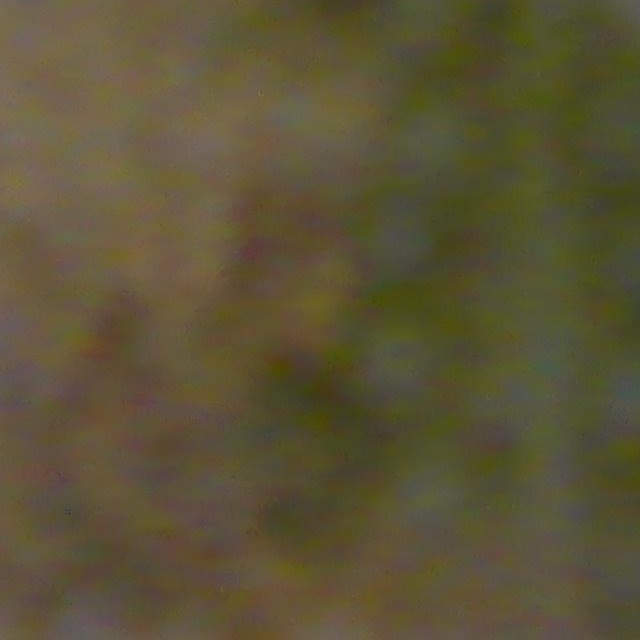SeaGrape: (373, 91, 496, 209), (342, 309, 456, 418), (347, 191, 456, 286), (382, 0, 488, 81)
